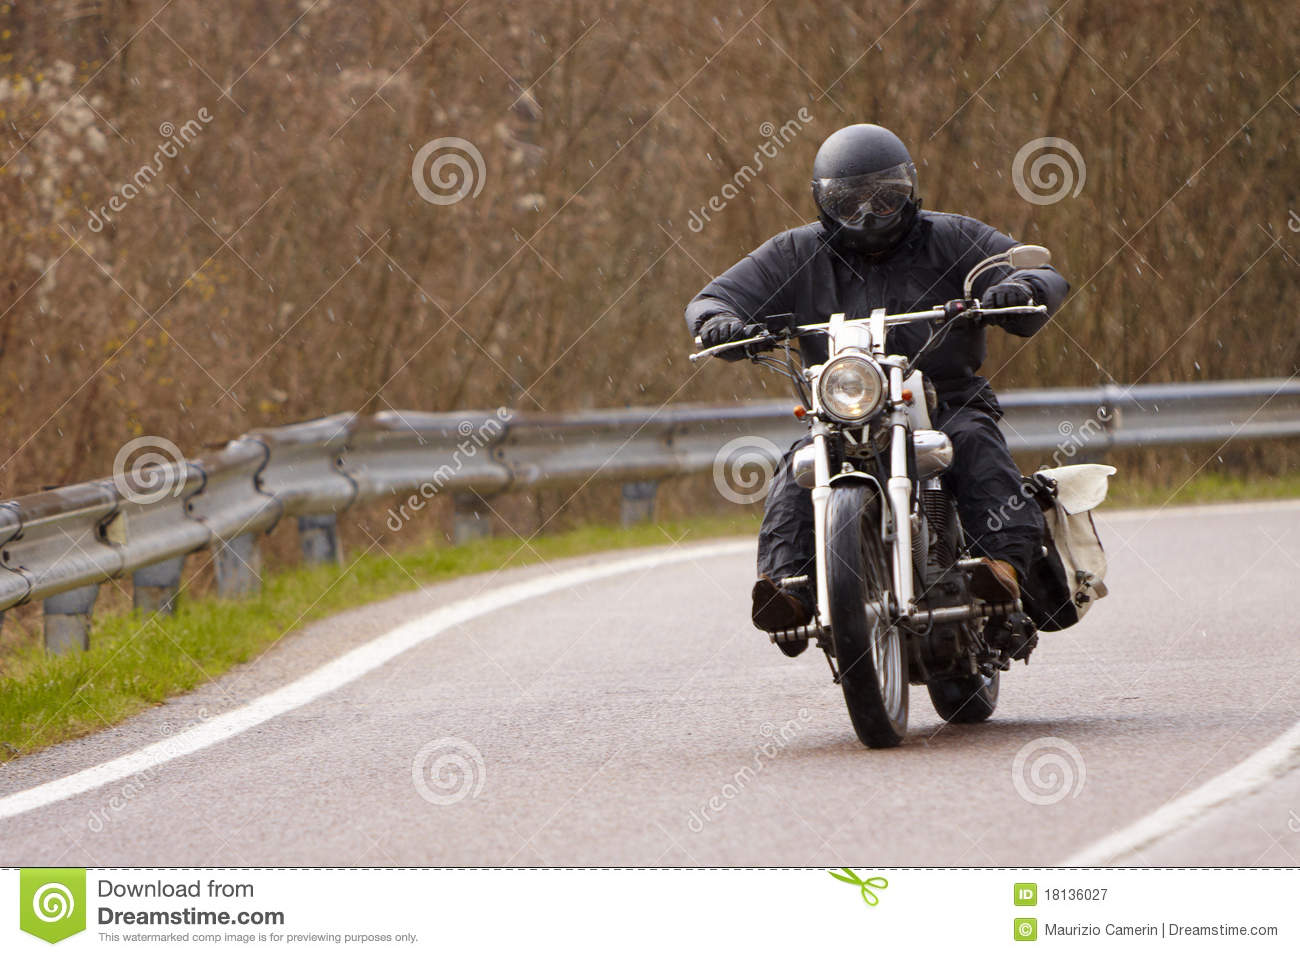helmet: (801, 130, 932, 241)
